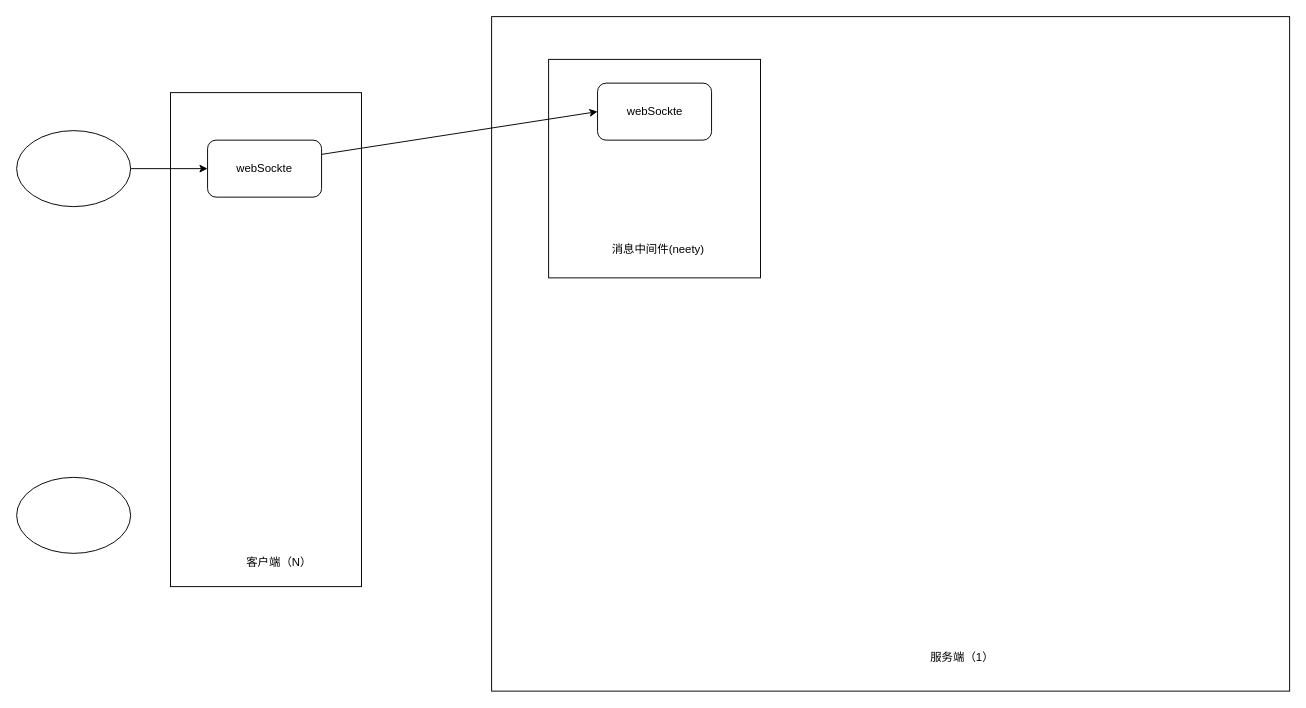
Some shapes in this 1306 by 708 pixel diagram are drawn without their labels. Each missing label, with the centre of its shape:
"开始" goes at (73,168).
"结束" goes at (73,514).
